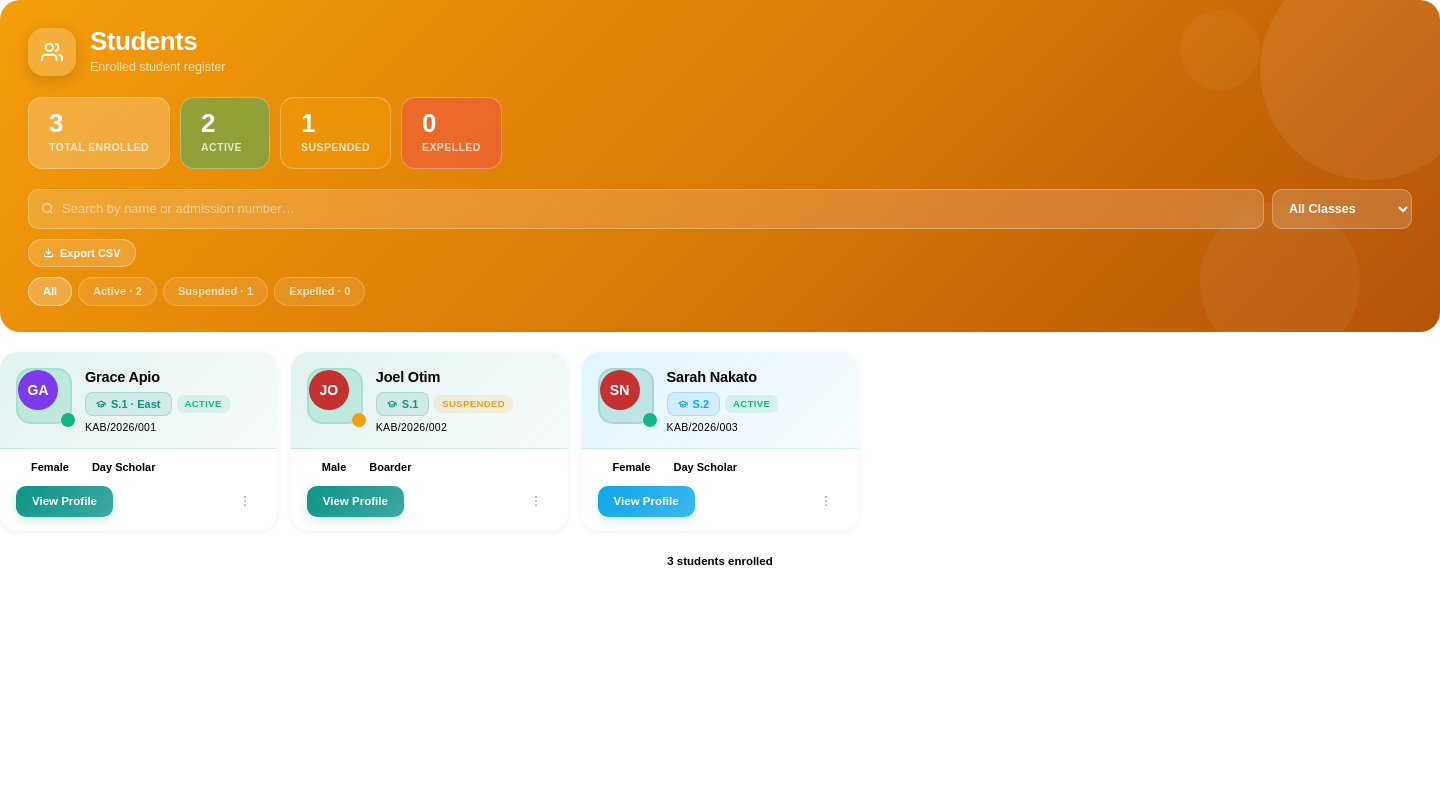
Scenario: PrincipalStudentsPage › 3-dot action menu › offers only "View Profile" — no Suspend/Expel/Reinstate
Click the button without text below "KAB/2026/001": (245, 501) [229,485,261,517]
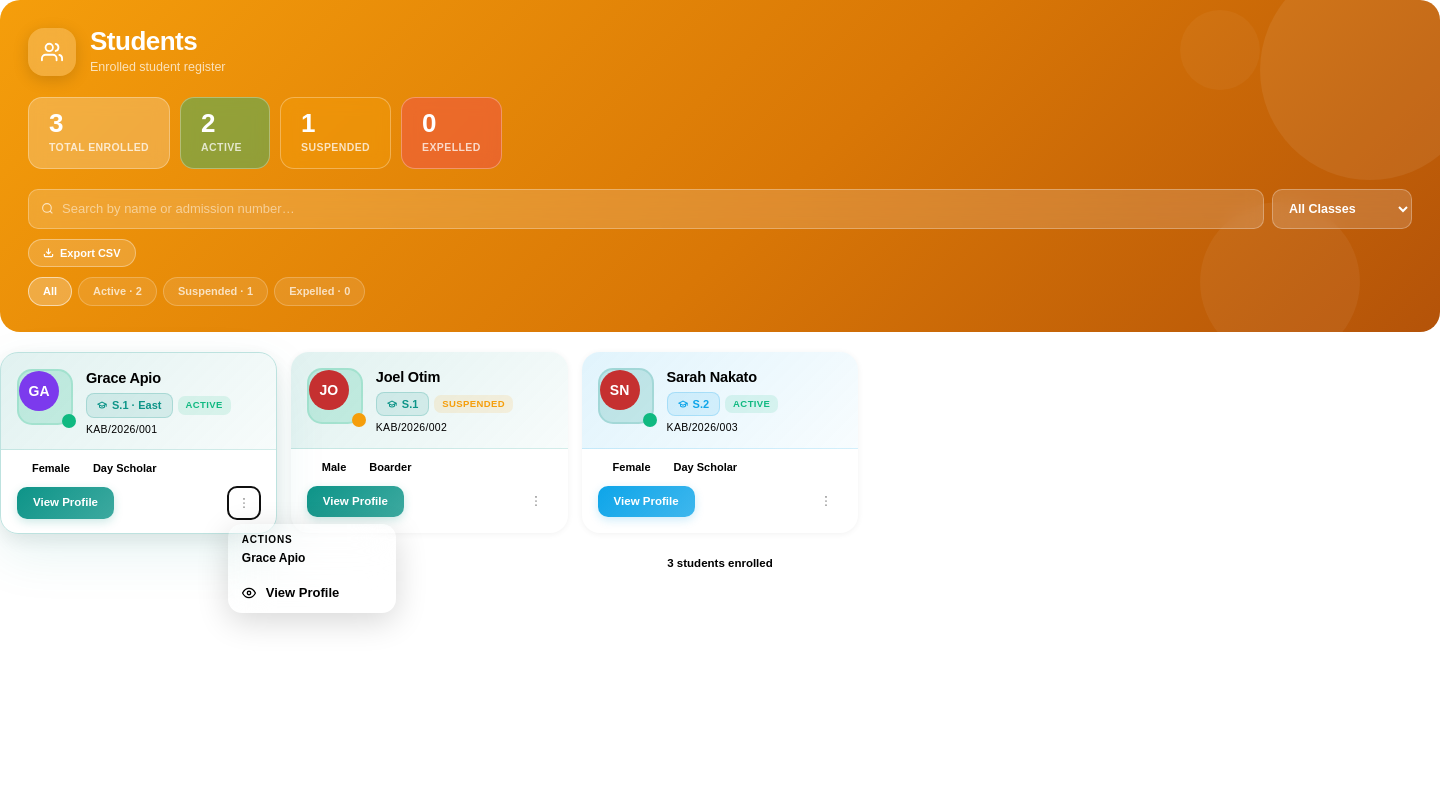
Result: the number of buttons "View Profile" is 4 at [17,487,114,518]; [307,486,404,517]; [598,486,695,517]; [228,573,396,613]
Result: the button "View Profile" below "Actions" is shown at [228,573,396,613]
